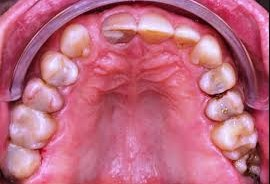UL1BC_decay: (200, 66, 234, 92)
UL1M_healthy: (215, 119, 257, 150)
UL2BC_decay: (207, 95, 244, 117)
UL2M_decay: (237, 153, 262, 177)
ULCI_healthy: (138, 11, 174, 43)
ULC_healthy: (194, 37, 222, 67)
ULLI_healthy: (175, 25, 200, 47)
UR1BC_decay: (24, 80, 63, 112)
UR1M_healthy: (3, 144, 42, 176)
UR2BC_healthy: (10, 107, 56, 149)
URCI_decay: (103, 11, 137, 44)
URC_healthy: (40, 52, 79, 86)
URLI_decay: (59, 24, 93, 57)
